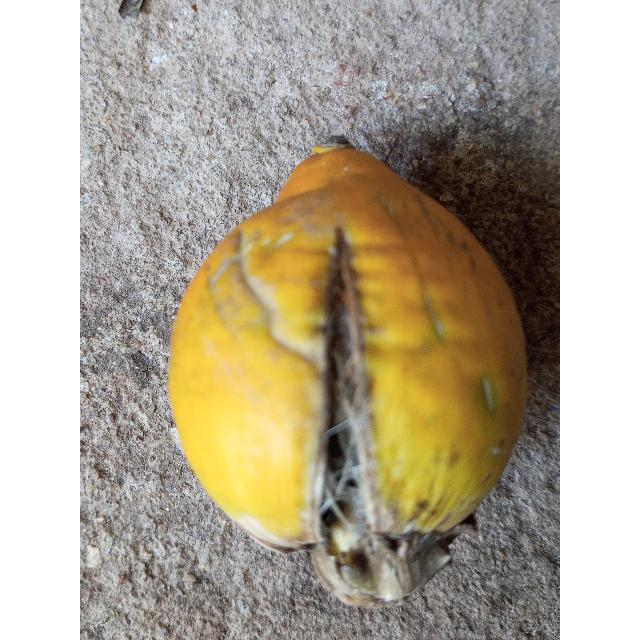damaged: (168, 144, 528, 611)
